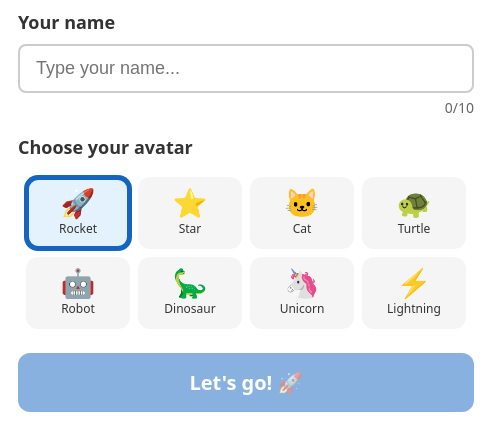
Test: NewPlayerForm › enables submit button when name is provided
Type "Mia" into the field labelled "Your name".
click(246, 68); type("Mia")  # box left=18, top=44, right=474, bottom=93
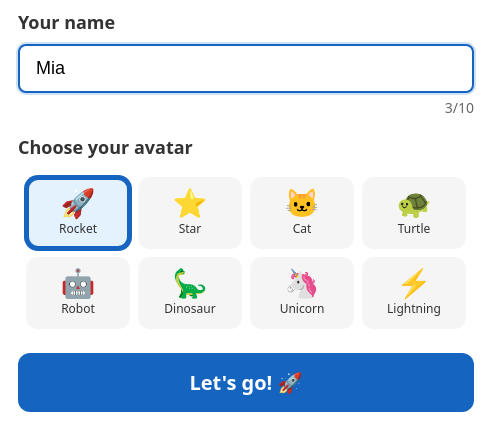
Expected: the button "Let's go! 🚀" is enabled, left=18, top=353, right=474, bottom=412
